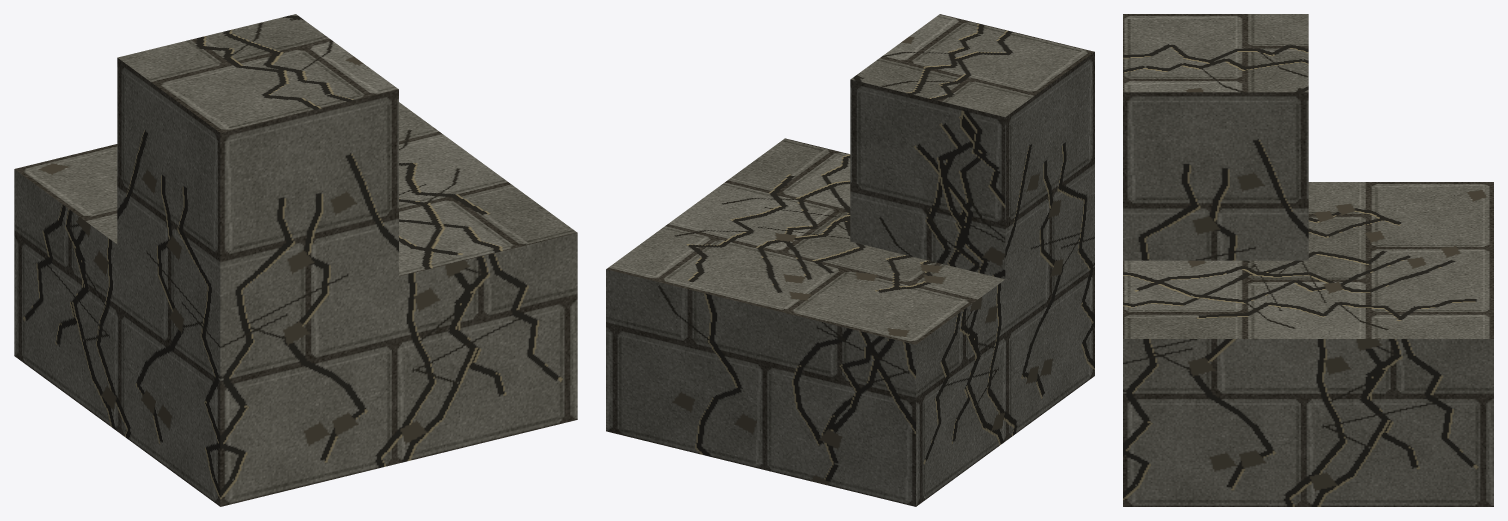
Rendered from stone_z3.glb.
3 renders of one model, left to right at view 1: azimuth 30°, elevation 25°; view 2: azimuth 150°, elevation 25°; view 3: azimuth 270°, elevation 25°, orthographic. The views are drawn at different scales.
Parts seen in each view (by area): view 1: stone_z3; view 2: stone_z3; view 3: stone_z3.
Part boxes in pixels (x1=…): stone_z3: x1=14, y1=14, x2=577, y2=506; stone_z3: x1=606, y1=14, x2=1094, y2=506; stone_z3: x1=1123, y1=14, x2=1493, y2=506.
Size of the model in its own units: 1 by 1 by 1.
1 material, 1 textured.
